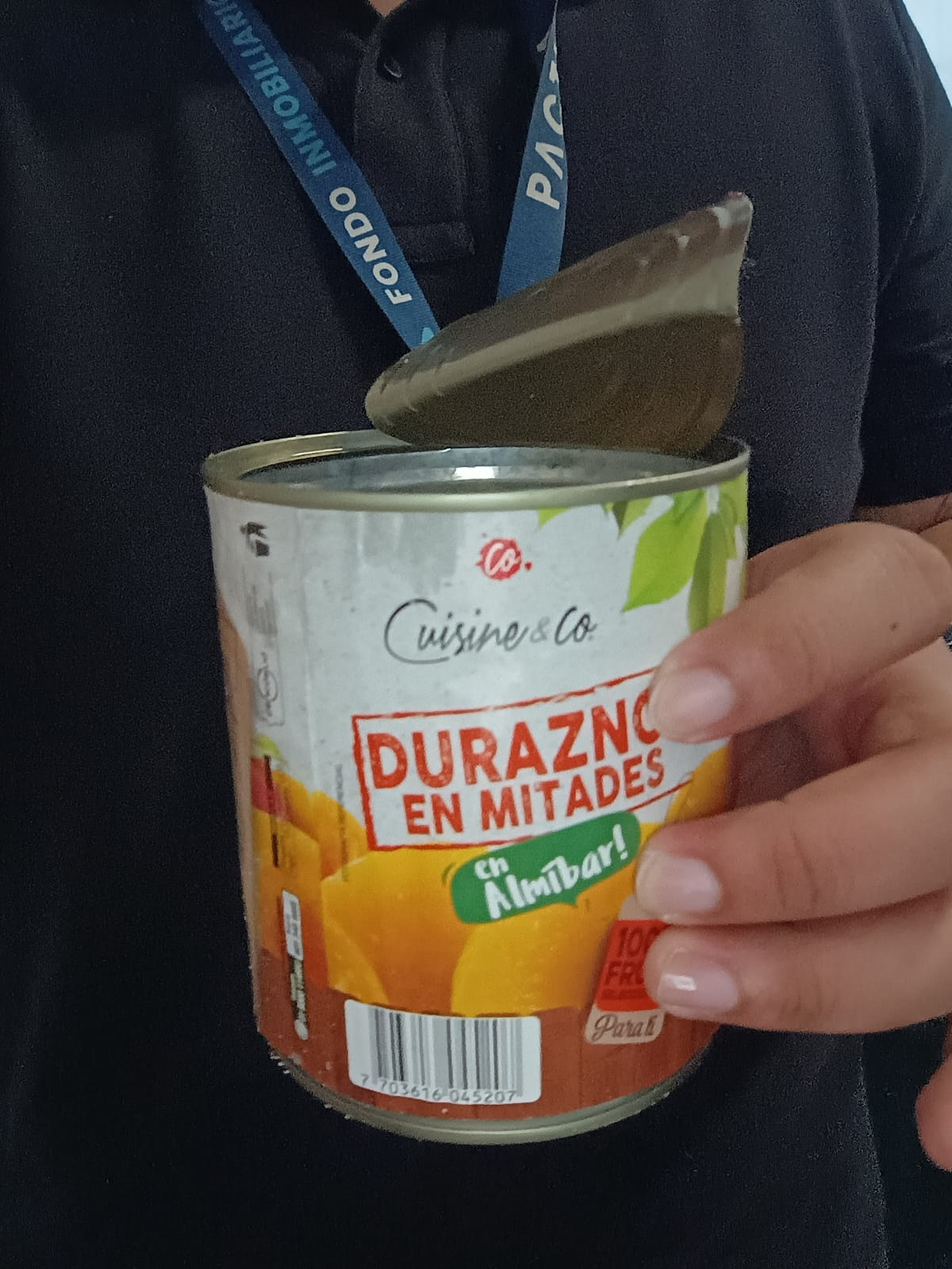Metal: (204, 193, 754, 1143)
